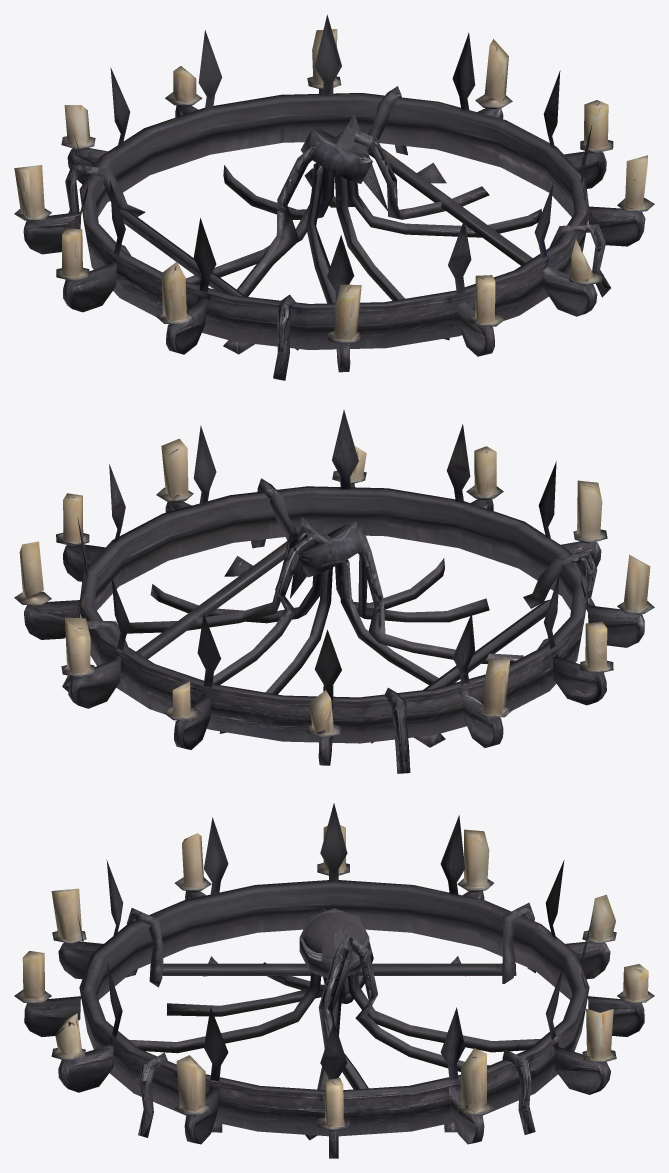
File: lampadario.fbx
The picture shows the model from 3 angles, top to bottom: view 1: azimuth 30°, elevation 25°; view 2: azimuth 150°, elevation 25°; view 3: azimuth 270°, elevation 25°; orthographic projection.
Visible parts, largest first — view 1: tripo_node_7236b273; view 2: tripo_node_7236b273; view 3: tripo_node_7236b273.
Boxes of the visible parts, <box> form: tripo_node_7236b273: <box>14,14,654,380</box>; tripo_node_7236b273: <box>14,410,654,773</box>; tripo_node_7236b273: <box>14,803,654,1158</box>.
Size of the model in its own units: 0.9995 by 0.2437 by 0.9995.
Materials: 1 (1 with a texture image).
